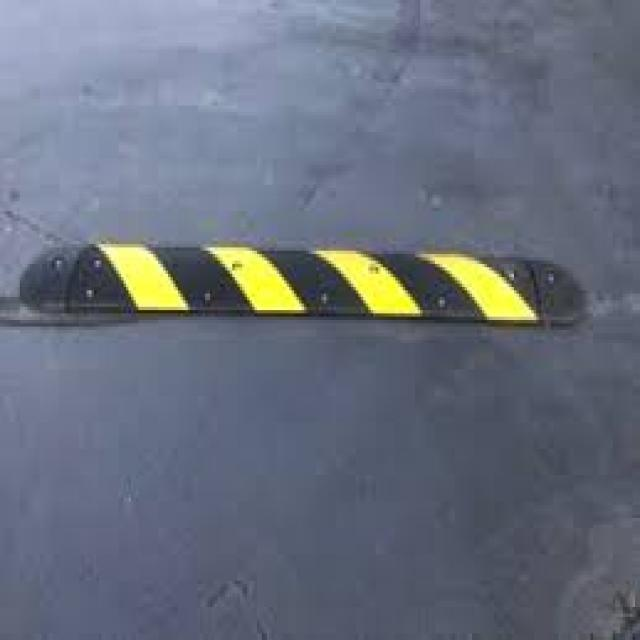Marked Bump: (20, 233, 595, 345)
